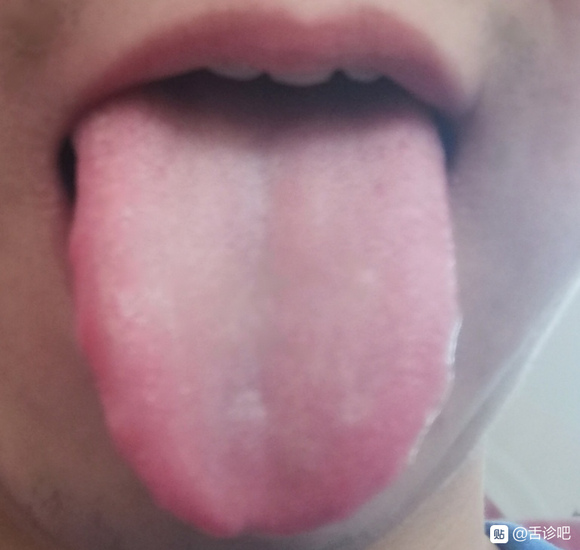baitaishe: (70, 86, 462, 538)
hongshe: (70, 86, 462, 538)
